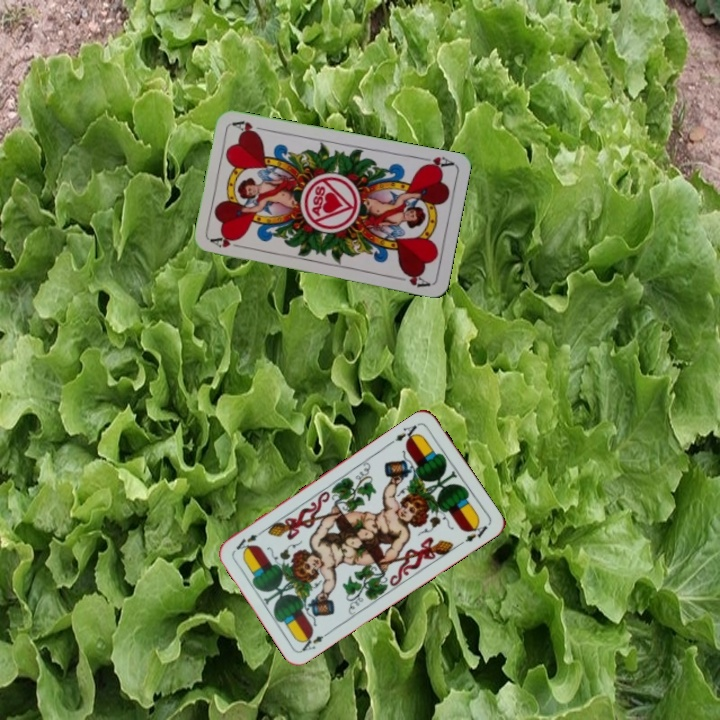EA: (297, 626, 334, 654), (391, 421, 422, 446)
HA: (415, 153, 455, 172), (207, 233, 248, 251)
